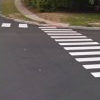crosswalk: (37, 25, 100, 79), (0, 22, 28, 29)
